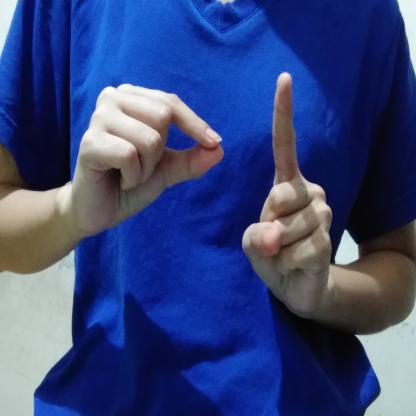son: (70, 68, 340, 332)
